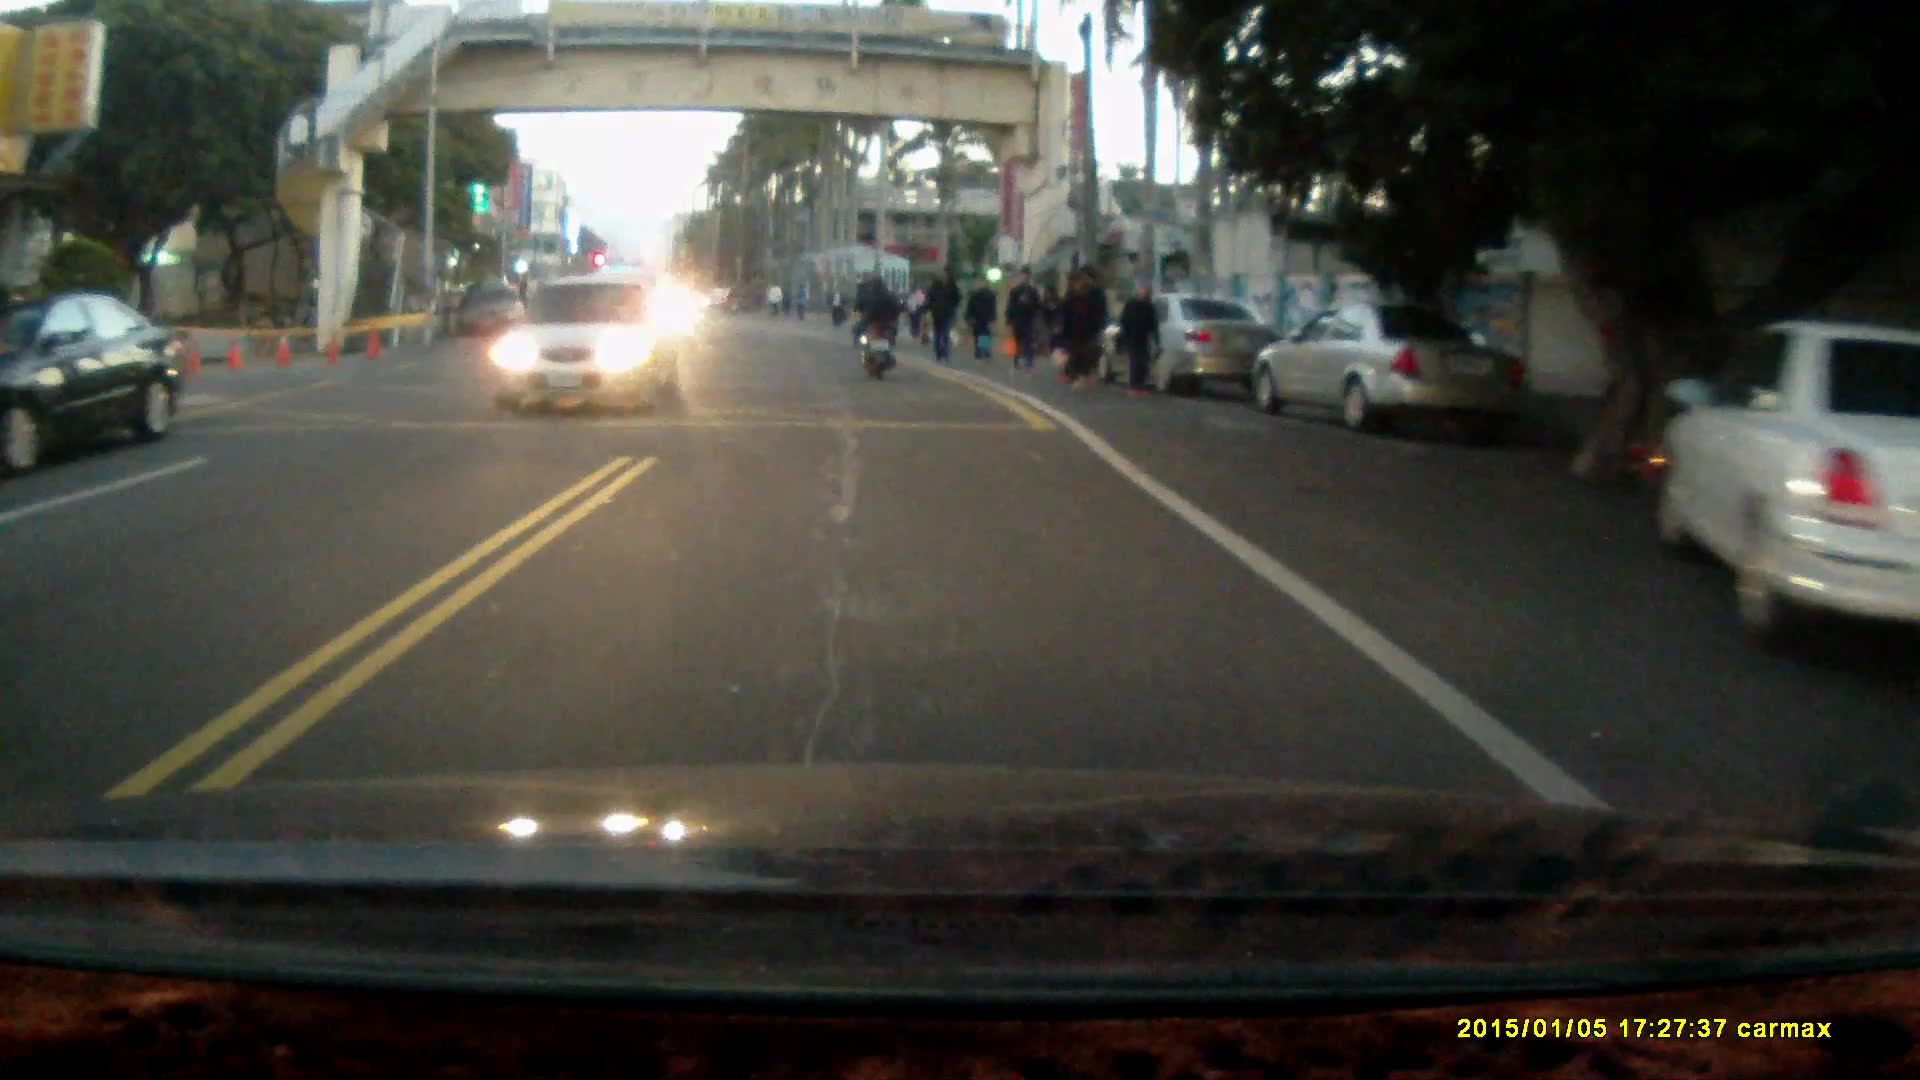pedestrian: (1117, 276, 1163, 402), (1057, 270, 1098, 392), (1004, 267, 1043, 376), (922, 266, 961, 365), (961, 274, 998, 368)
rider: (848, 270, 904, 382)
vehicle: (1654, 320, 1920, 660), (1249, 297, 1535, 436), (1, 296, 201, 465), (480, 273, 686, 420), (1094, 293, 1288, 395)
